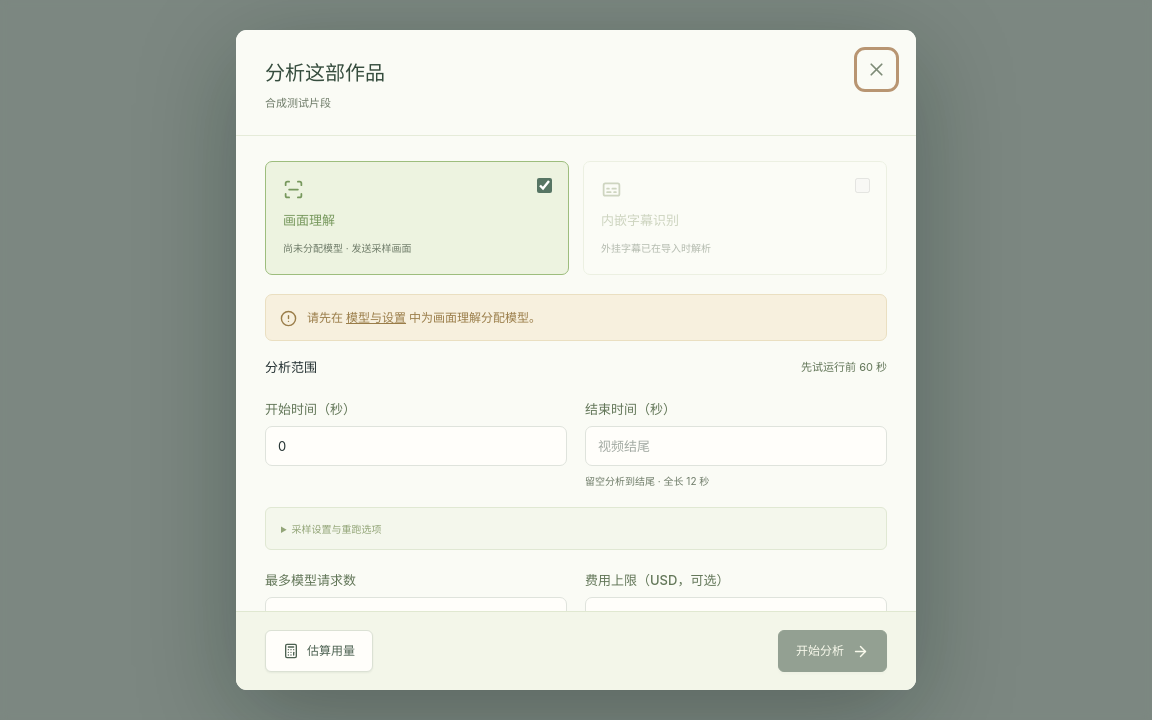
Test: Analysis budgeting and independent stages › does not start a job with a missing model binding, even after a returned estimate
Click the button "估算用量" at (319, 651), box [265,630,373,672]
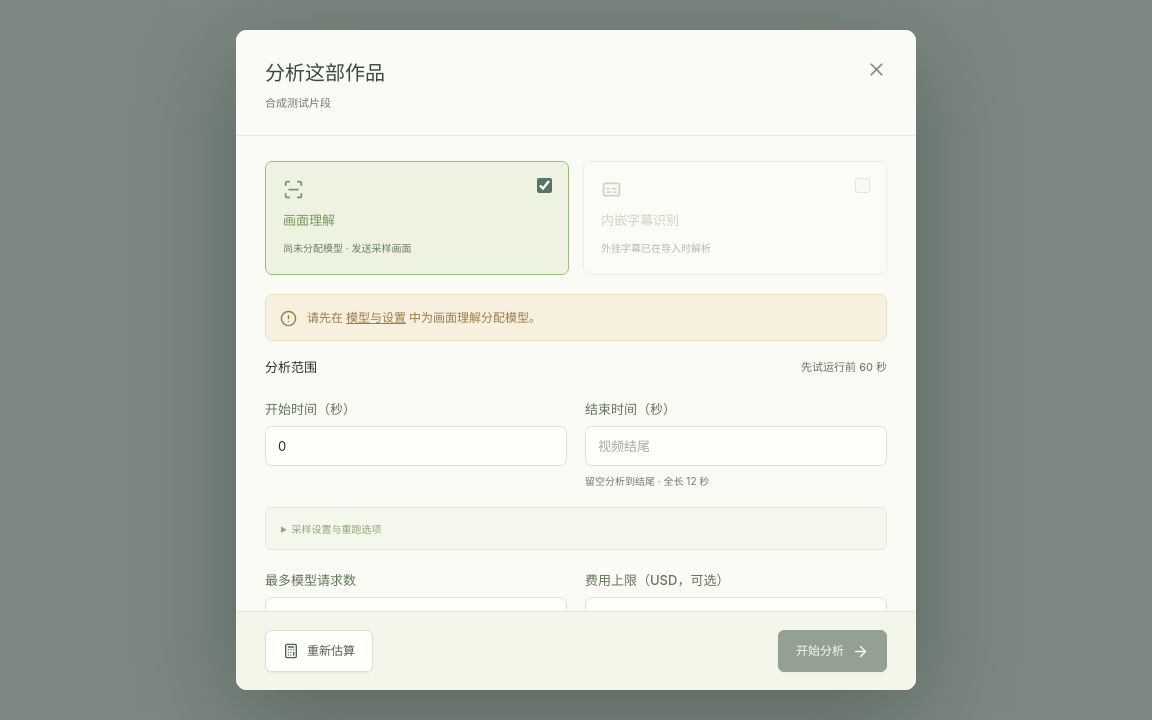
Expected: the button "开始分析" is disabled, [778,630,887,672]
Now the button "重新估算" is shown, box [265,630,373,672]
